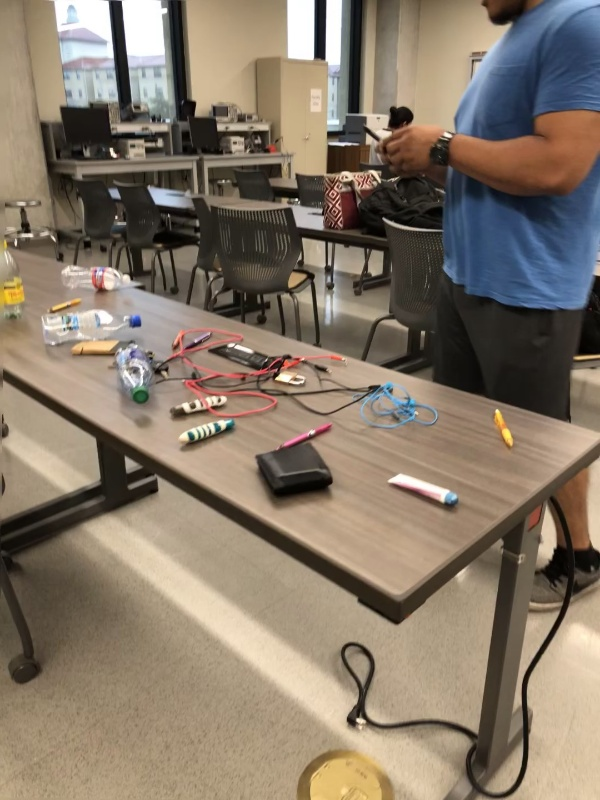bottle: (38, 308, 148, 347), (110, 342, 161, 405), (55, 261, 135, 298), (1, 239, 30, 330)
